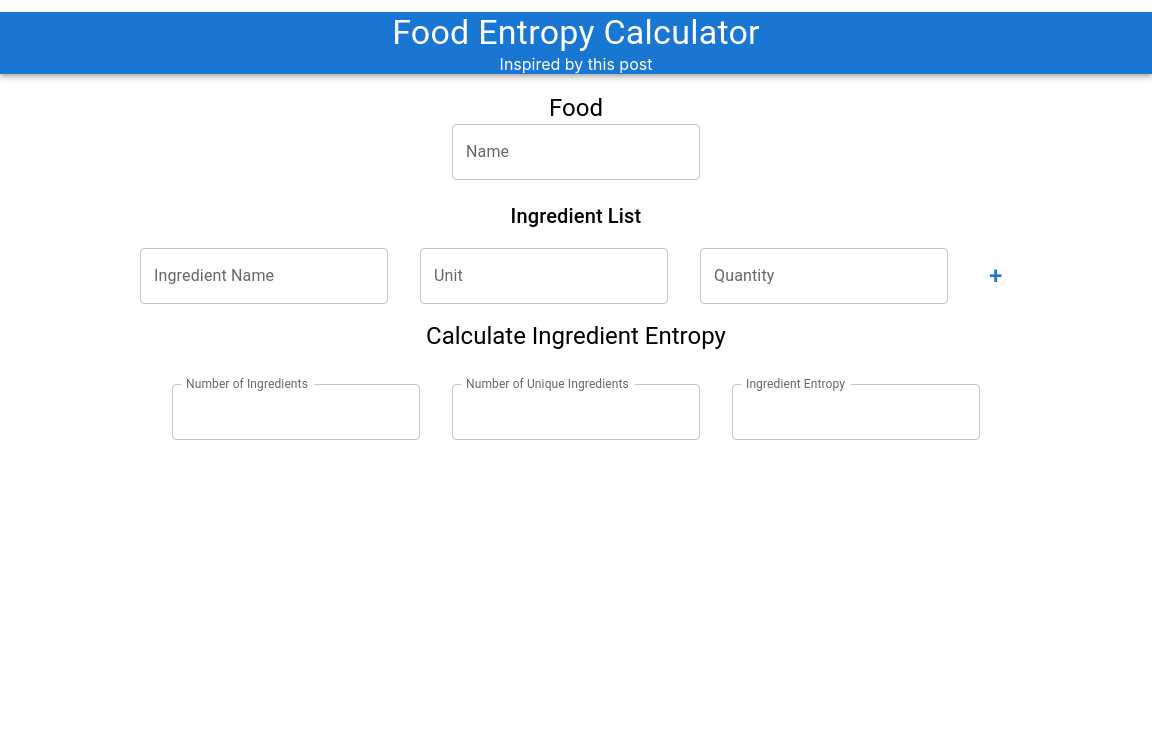
it: salad theory › food › ingredient list › should allow me to add an ingredient
This screenshot has width=1152, height=732.
Click the button "+" at (996, 276), box left=964, top=252, right=1028, bottom=300
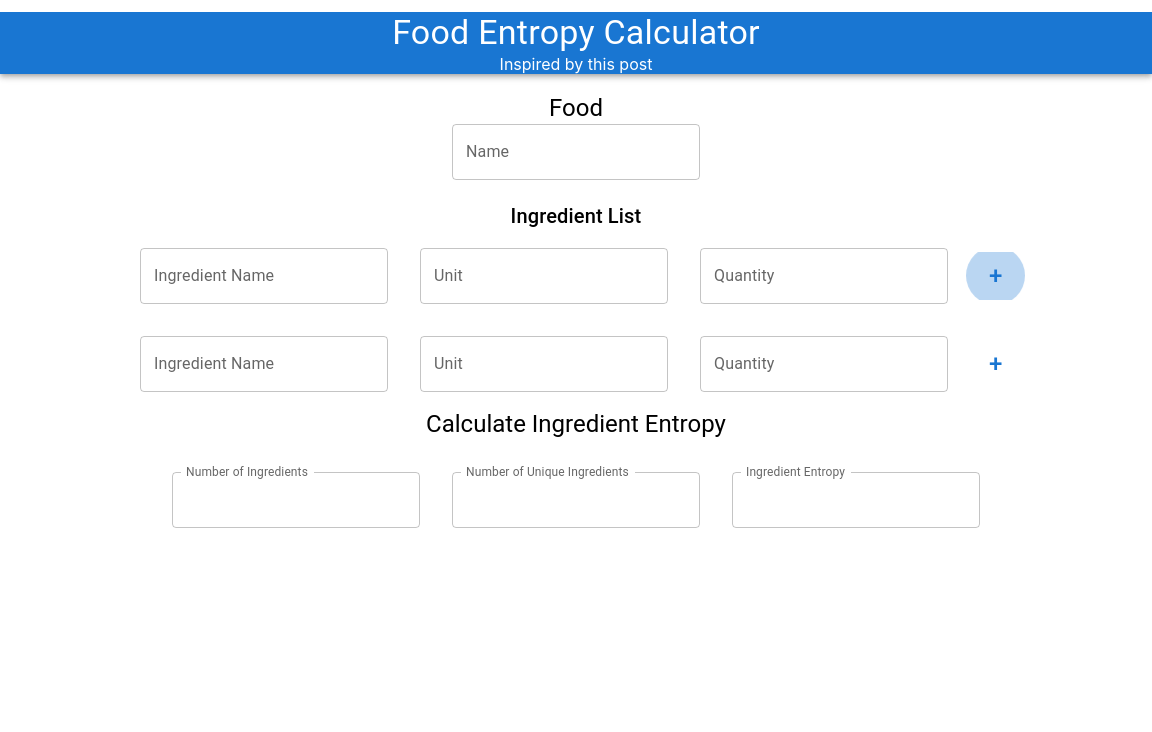
Now the number of buttons is 2, box left=964, top=252, right=1028, bottom=300; left=964, top=340, right=1028, bottom=388
